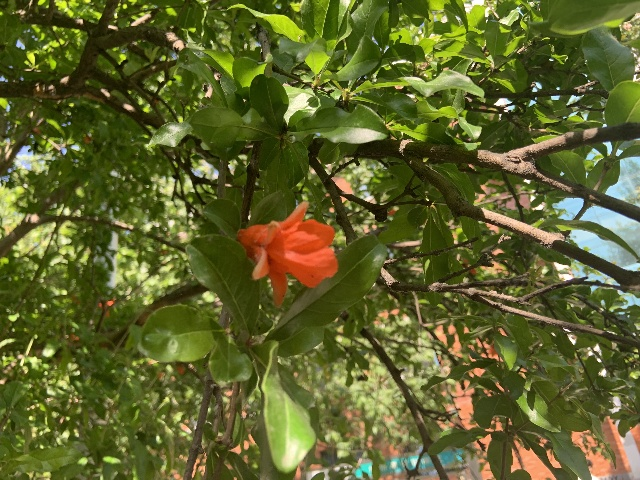flower: (236, 200, 338, 306)
